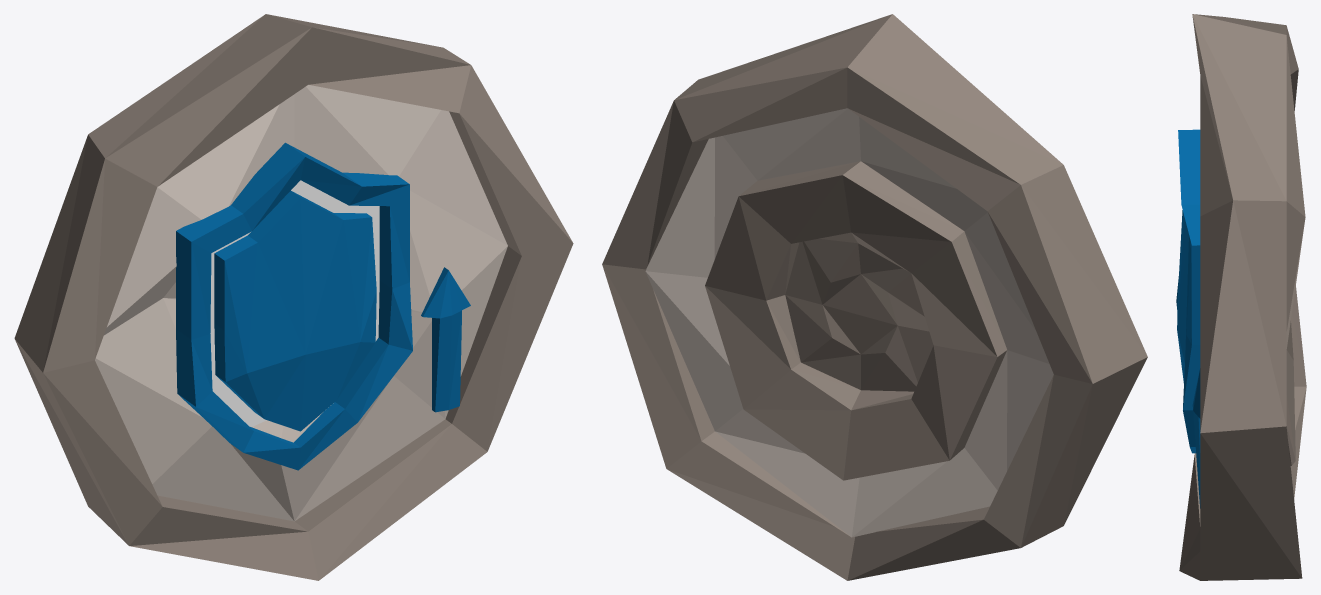
Rendered from item_fly_defense.FBX.
3 renders of one model, left to right at view 1: azimuth 30°, elevation 25°; view 2: azimuth 150°, elevation 25°; view 3: azimuth 270°, elevation 25°, orthographic. The views are drawn at different scales.
Visible parts, largest first — view 1: coin, defense; view 2: coin; view 3: coin, defense.
Part boxes in pixels (left/top/right/bottom): coin: left=14, top=14, right=573, bottom=580; defense: left=176, top=142, right=470, bottom=470; coin: left=602, top=14, right=1147, bottom=580; coin: left=1179, top=14, right=1306, bottom=580; defense: left=1176, top=129, right=1200, bottom=508.
Size of the model in its own units: 31.09 by 30.75 by 6.52.
Materials: 1 (1 with a texture image).
